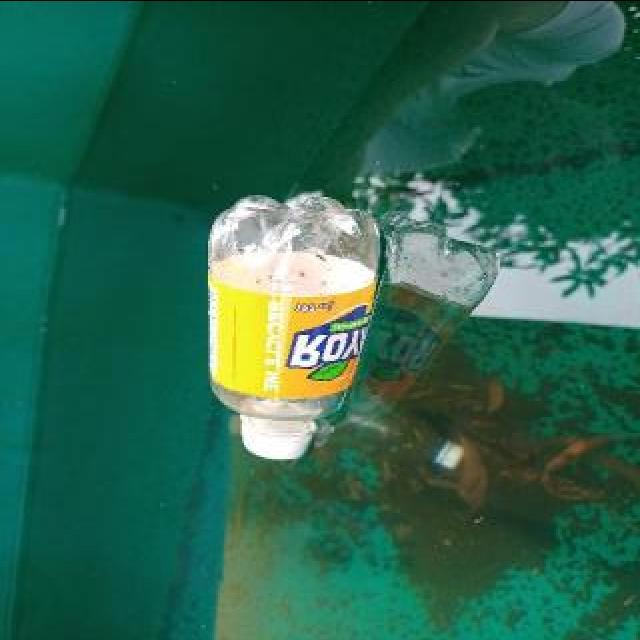Bottle: (197, 185, 387, 470)
